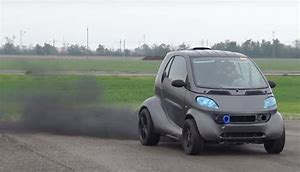smoke: (1, 75, 137, 141)
